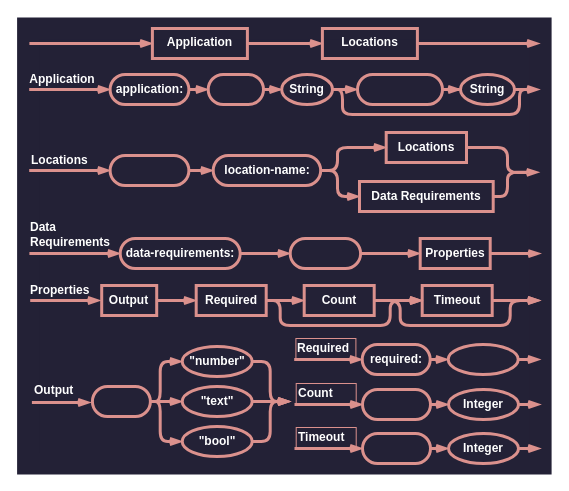
The diagram is 569 pixels wide and 491 high, and some of its shapes have lost their labels. Here are the shapes that lost their labels. From the top down, the centre of each, then its label:
the point at 235,89: name:
the point at 400,89: description:
the point at 149,170: locations:
the point at 325,253: data-key:
the point at 482,359: Boolean
the point at 120,401: output:
the point at 396,404: count:
the point at 396,448: timeout:
